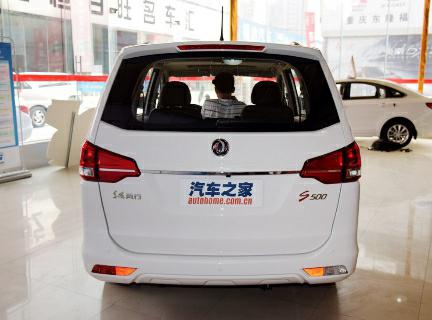东风风行-菱智: (75, 37, 367, 295)
